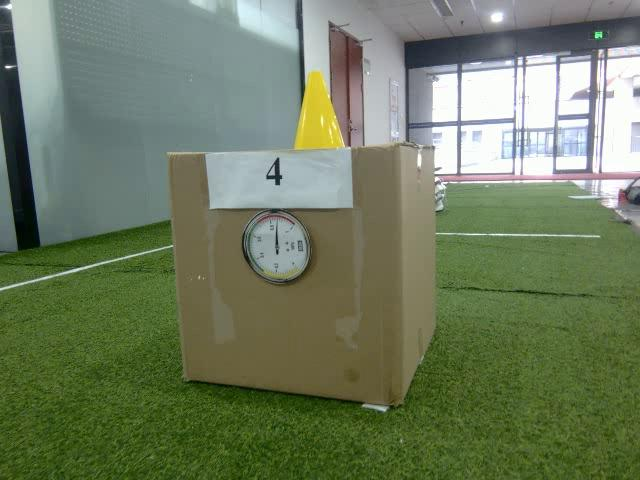4: (265, 156, 283, 186)
Dashboard: (242, 210, 311, 284)
ssi: (298, 239, 302, 252)
yellow_barrel: (292, 70, 346, 149)
